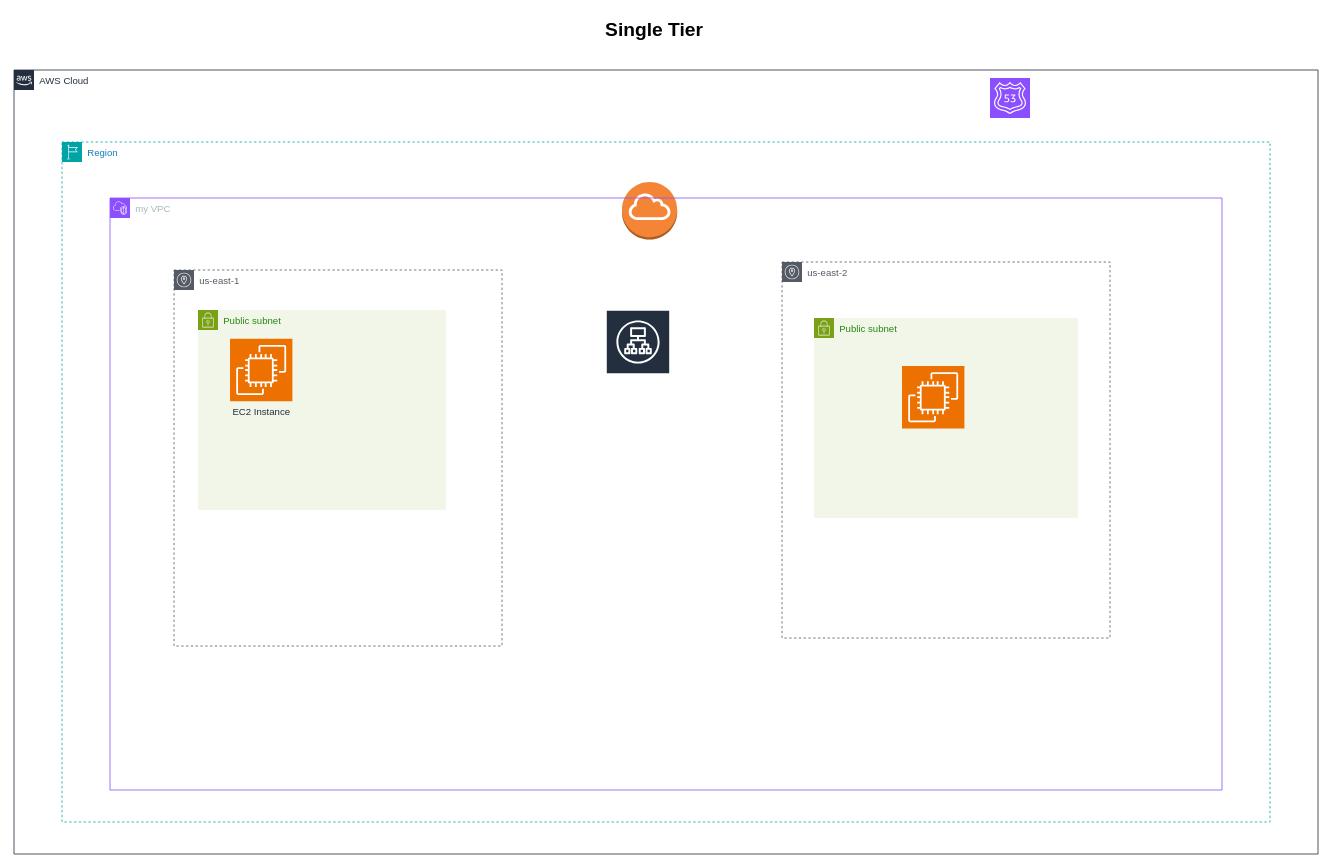
This 1332x868 diagram has some shape labels left out. The shapes that lost their labels are listed below. From the top down, each one's centre as x and y in pixels, then its label:
(x=1009, y=97): Route 53
(x=649, y=210): Internet Gateway
(x=637, y=353): Application Load Balancer
